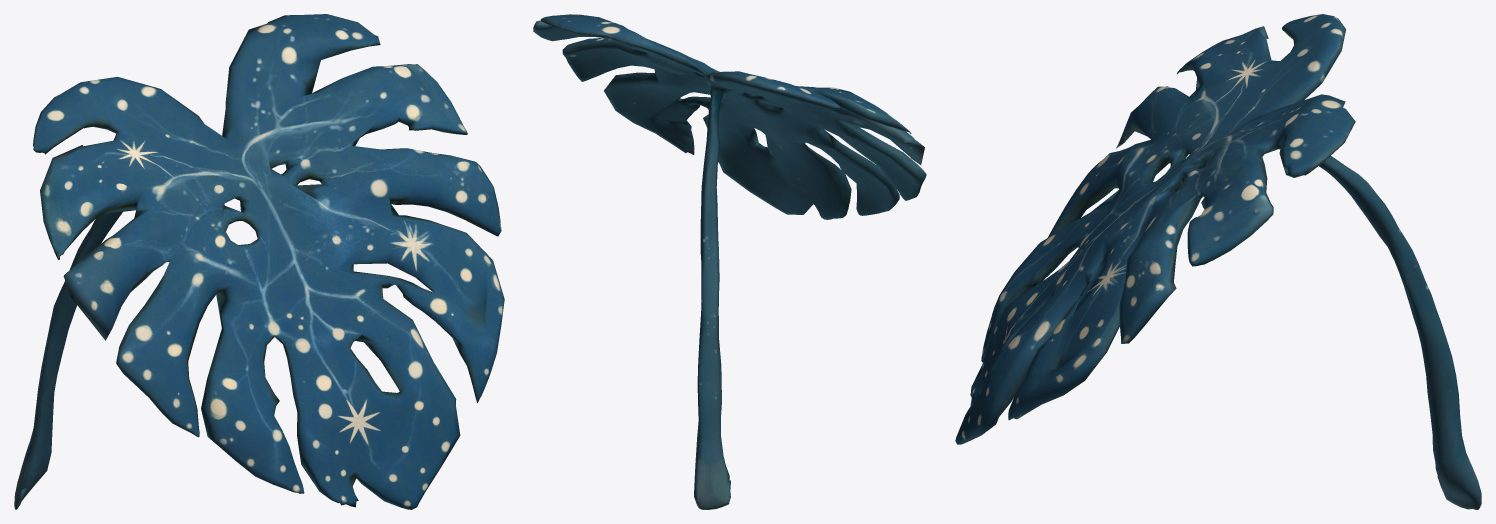
File: mon_galaxy_darkteal_v1.glb
3 renders of one model, left to right at view 1: azimuth 30°, elevation 25°; view 2: azimuth 150°, elevation 25°; view 3: azimuth 270°, elevation 25°, orthographic. The views are drawn at different scales.
Visible parts, largest first — view 1: world; view 2: world; view 3: world.
Boxes of the visible parts, box(x1,y1,x2,y2) form: world: box(14, 14, 504, 509); world: box(533, 14, 926, 509); world: box(955, 14, 1481, 509).
Size of the model in its own units: 1.86 by 2 by 1.91.
Materials: 1 (1 with a texture image).
